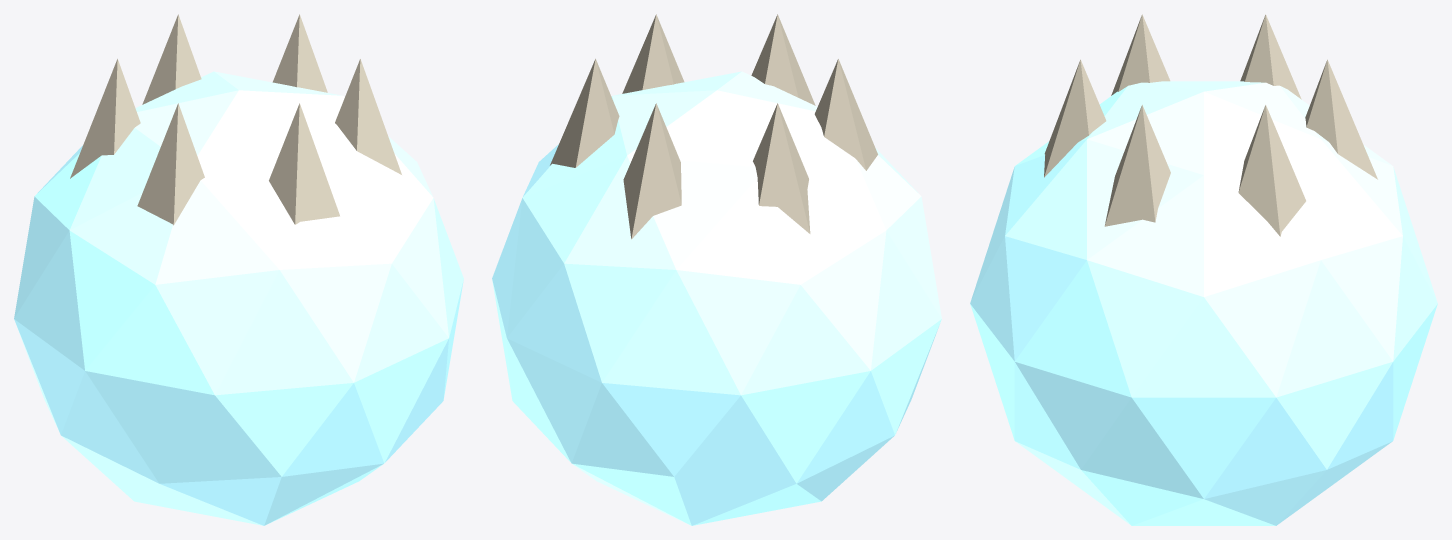
The model's file is ember_ice_projectile.glb.
3 views of the same model, side by side, from view 1: azimuth 30°, elevation 25°; view 2: azimuth 150°, elevation 25°; view 3: azimuth 270°, elevation 25° (orthographic).
Parts seen in each view (by area): view 1: Berry, IceCrown.003, IceCrown.004, IceCrown.002, IceCrown.005, IceCrown, IceCrown.001; view 2: Berry, IceCrown, IceCrown.005, IceCrown.001, IceCrown.004, IceCrown.003, IceCrown.002; view 3: Berry, IceCrown.001, IceCrown.002, IceCrown, IceCrown.003, IceCrown.005, IceCrown.004.
Part boxes in pixels (x1,y1,x2,y2): Berry: (14,71,463,525); IceCrown.003: (269,103,339,224); IceCrown.004: (137,103,204,225); IceCrown.002: (335,59,401,174); IceCrown.005: (70,59,140,178); IceCrown: (142,14,201,104); IceCrown.001: (272,14,327,92); Berry: (492,71,941,525); IceCrown: (623,103,681,239); IceCrown.005: (753,103,810,233); IceCrown.001: (550,59,619,167); IceCrown.004: (814,59,877,170); IceCrown.003: (751,14,815,105); IceCrown.002: (622,14,684,93); Berry: (970,81,1437,525); IceCrown.001: (1238,105,1305,236); IceCrown.002: (1104,105,1170,226); IceCrown: (1305,59,1377,179); IceCrown.003: (1044,59,1106,177); IceCrown.005: (1240,14,1301,99); IceCrown.004: (1111,14,1170,95).
Size of the model in its own units: 1.37 by 1.55 by 1.44.
